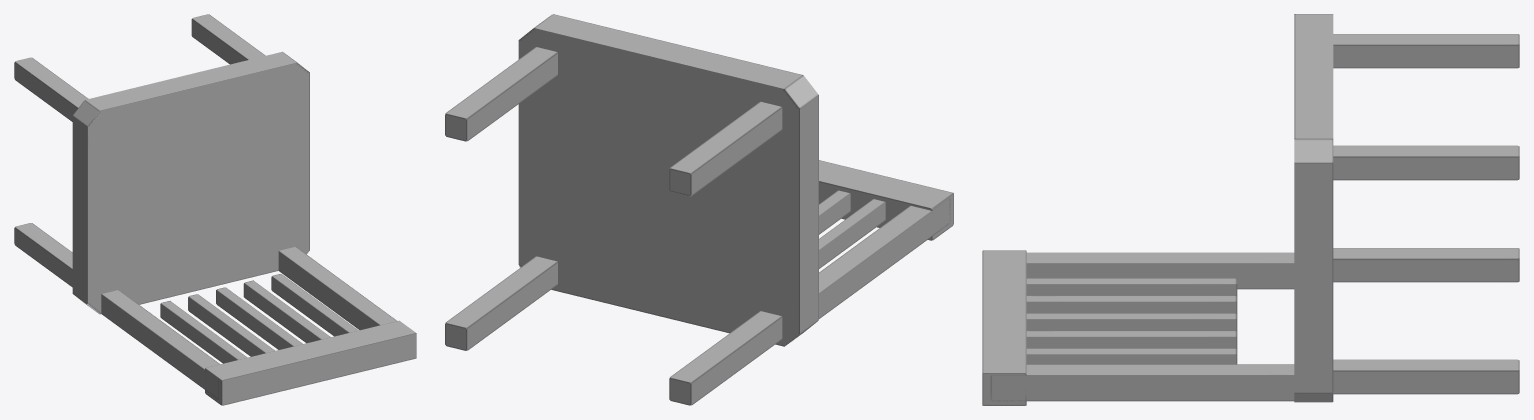
File: pz_chair_seating_indoor_03_white_simple.obj
3 views of the same model, side by side, from view 1: azimuth 30°, elevation 25°; view 2: azimuth 150°, elevation 25°; view 3: azimuth 270°, elevation 25° (orthographic). The views are drawn at different scales.
Visible parts, largest first — view 1: root; view 2: root; view 3: root.
Boxes of the visible parts, box(x1,y1,x2,y2) form: root: box(14, 14, 416, 405); root: box(445, 14, 953, 405); root: box(982, 14, 1519, 405).
Bounding box in the file's own units: 0.64 × 0.57 × 1.03.
1 material, 1 textured.
